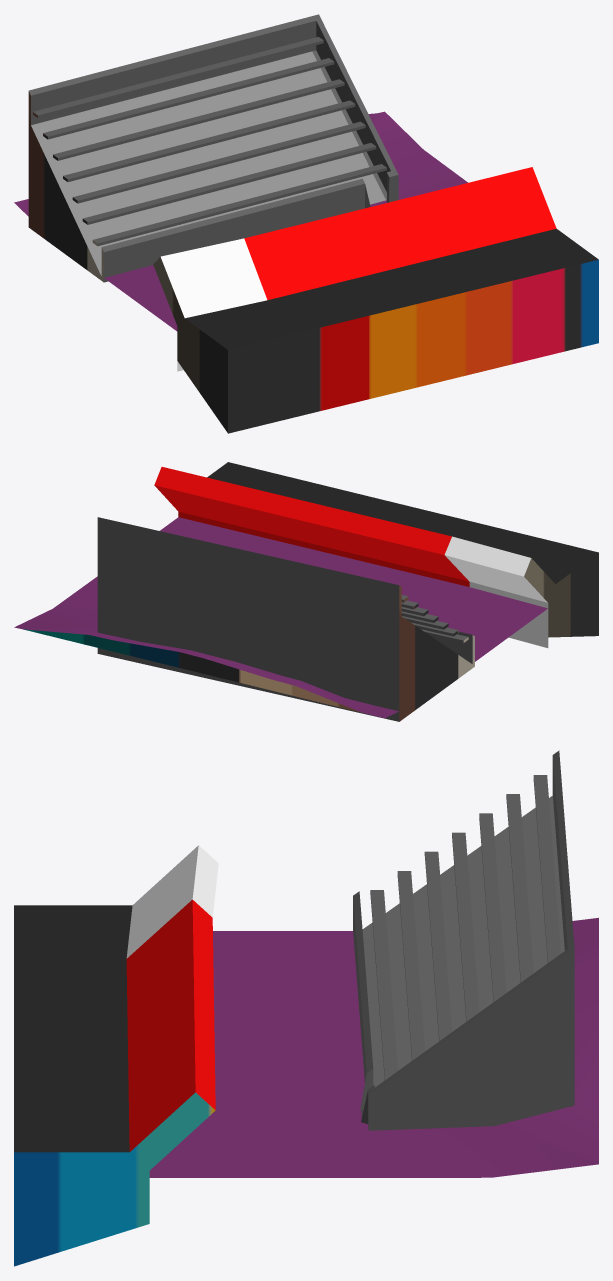
Rendered from tile_9_0_1.gltf.
The picture shows the model from 3 angles, top to bottom: view 1: azimuth 30°, elevation 25°; view 2: azimuth 150°, elevation 25°; view 3: azimuth 270°, elevation 25°; orthographic projection. The views are drawn at different scales.
Visible parts, largest first — view 1: track.110, Cube.014, Plane, Cube.063, Cube.064, Cube.065, Cube.066, Cube.067, Cube.068, Cube.069; view 2: Cube.014, track.110, Plane; view 3: track.110, Plane, Cube.014, Cube.063, Cube.065, Cube.064, Cube.066, Cube.067, Cube.068, Cube.069.
Boxes of the visible parts, box(x1,y1,x2,y2) form: track.110: box(153, 167, 598, 433); Cube.014: box(28, 14, 398, 282); Plane: box(14, 111, 467, 331); Cube.063: box(92, 164, 386, 246); Cube.064: box(82, 143, 376, 224); Cube.065: box(72, 121, 365, 203); Cube.066: box(63, 100, 355, 181); Cube.067: box(53, 79, 344, 160); Cube.068: box(43, 58, 334, 139); Cube.069: box(33, 37, 323, 117); Cube.014: box(97, 517, 474, 721); track.110: box(154, 462, 598, 647); Plane: box(14, 517, 547, 718); track.110: box(14, 845, 218, 1266); Plane: box(149, 917, 598, 1177); Cube.014: box(353, 750, 574, 1130); Cube.063: box(370, 890, 397, 1079); Cube.065: box(424, 851, 452, 1041); Cube.064: box(397, 871, 424, 1060); Cube.066: box(452, 832, 479, 1021); Cube.067: box(479, 813, 506, 1001); Cube.068: box(506, 794, 533, 982); Cube.069: box(533, 775, 560, 962).
Bounding box in the file's own units: 8 × 4.06 × 8.
1 material, 1 textured.
